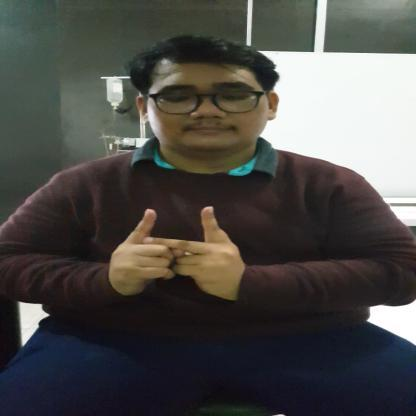H: (102, 204, 250, 300)
